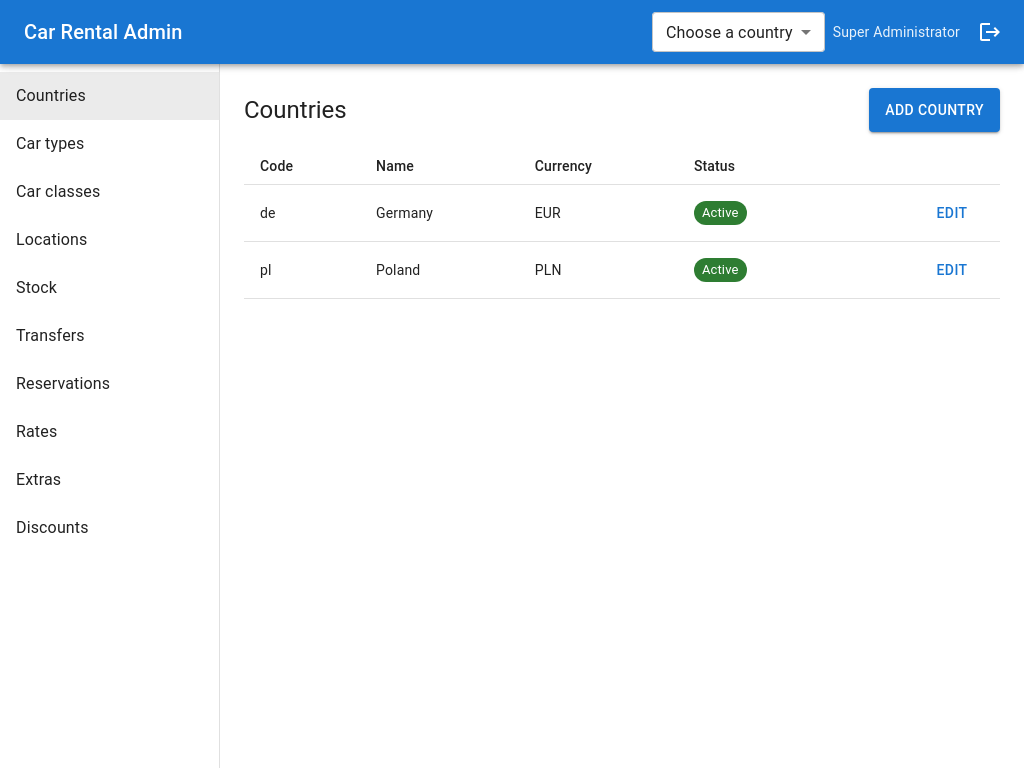
Test: Countries › lists countries and adds a new one
Expected: the cell "Poland" is shown, [360,242,519,298]
Click the button "Add country" at (935, 110), box [869,88,1000,132]
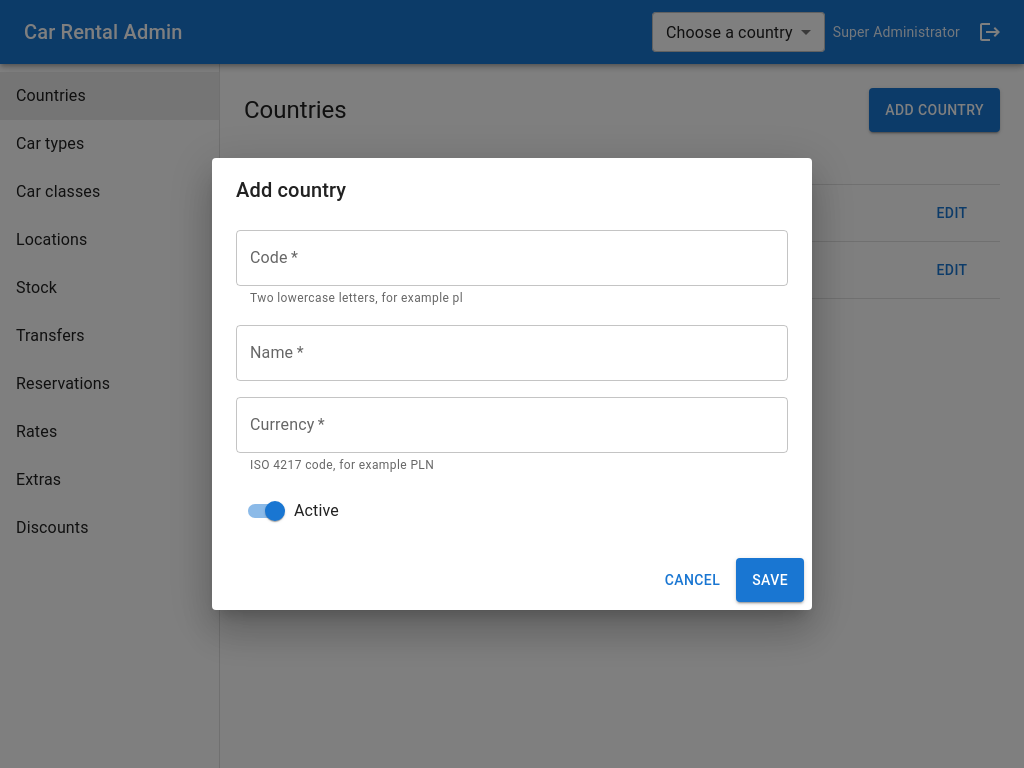
Type "FR" into the field labelled "Code *" at (512, 258), box [236,230,788,286]
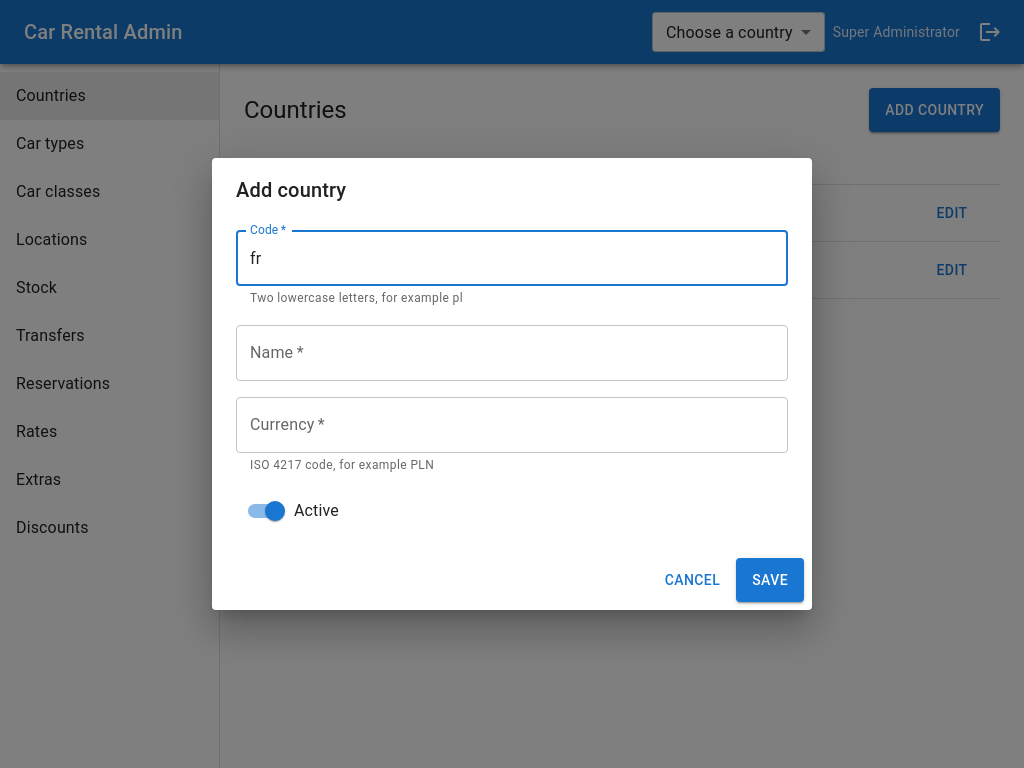
Type "France" into the field labelled "Name *" at (512, 353), box [236,325,788,381]
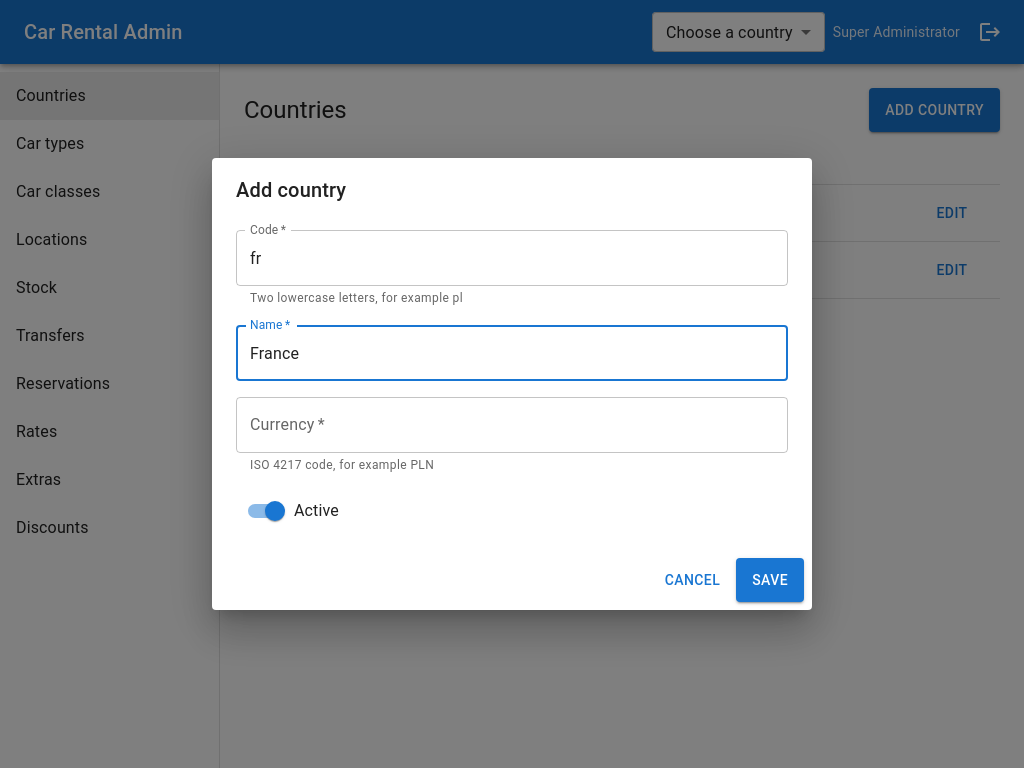
Type "eur" into the field labelled "Currency *" at (512, 425), box [236,397,788,453]
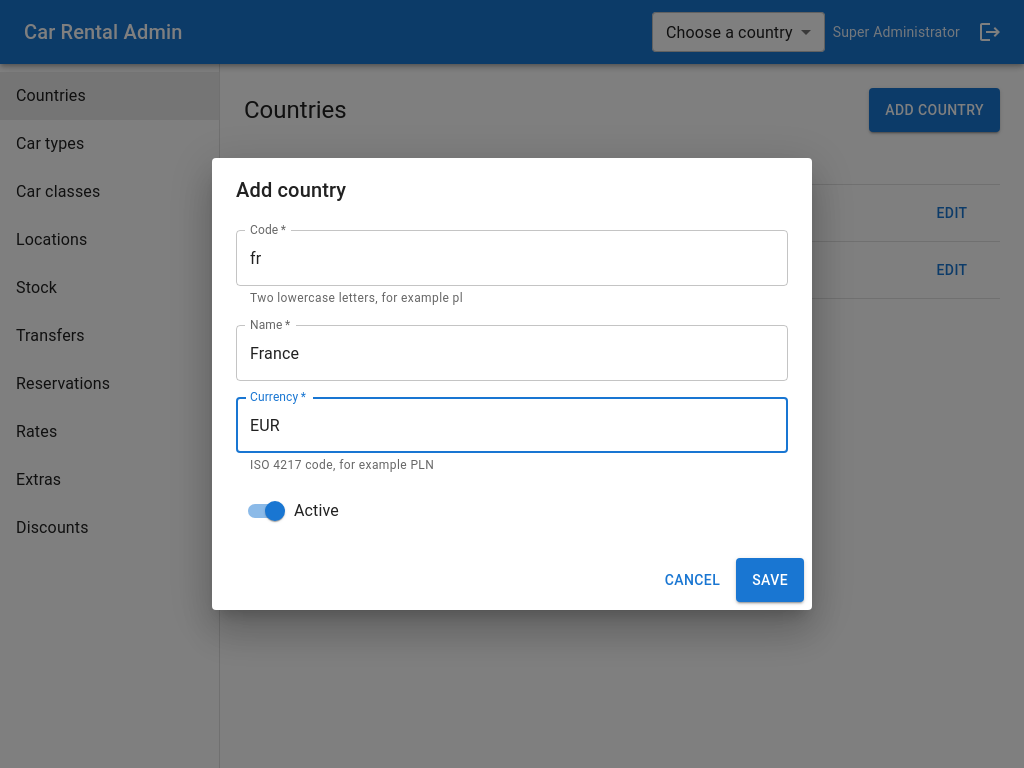
Click the button "Save" at (770, 580), box [736,558,804,602]
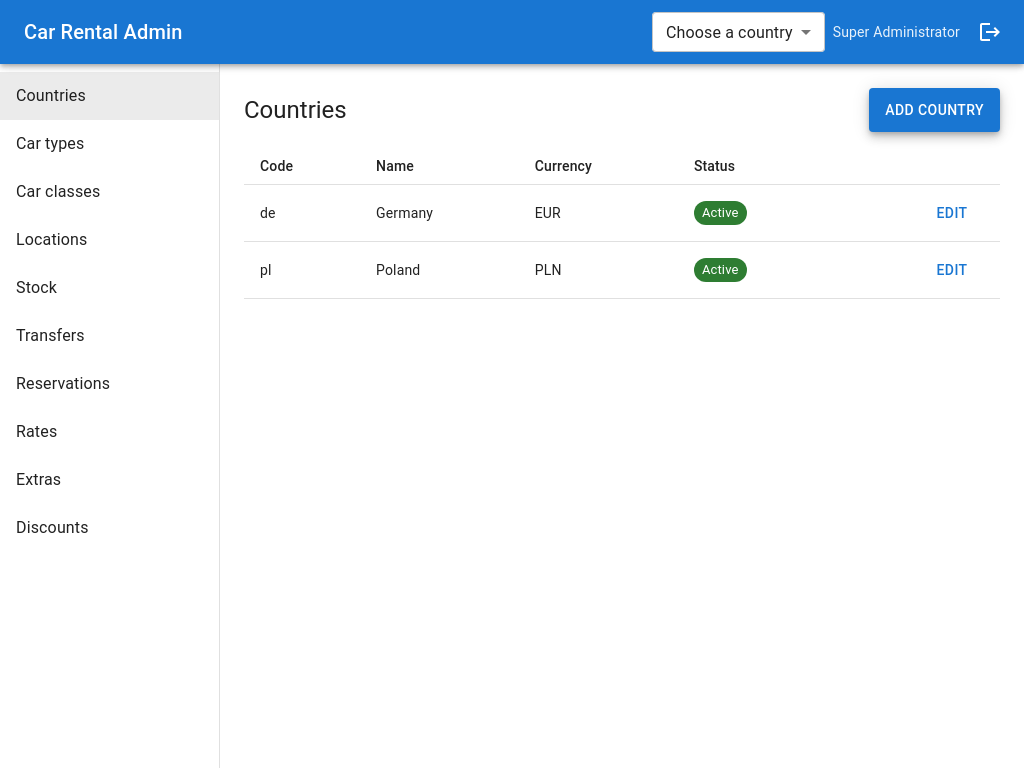
Result: the dialog is gone
